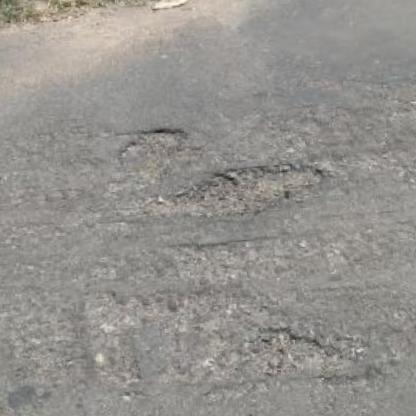pothole: (159, 157, 328, 218), (238, 319, 350, 379), (113, 122, 189, 166)
